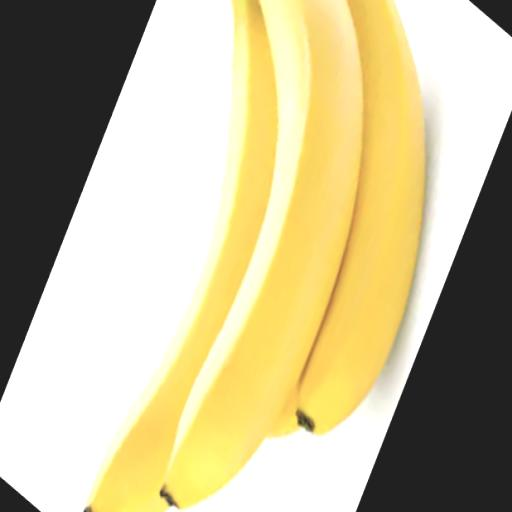banana-ripe: (76, 0, 449, 512)
